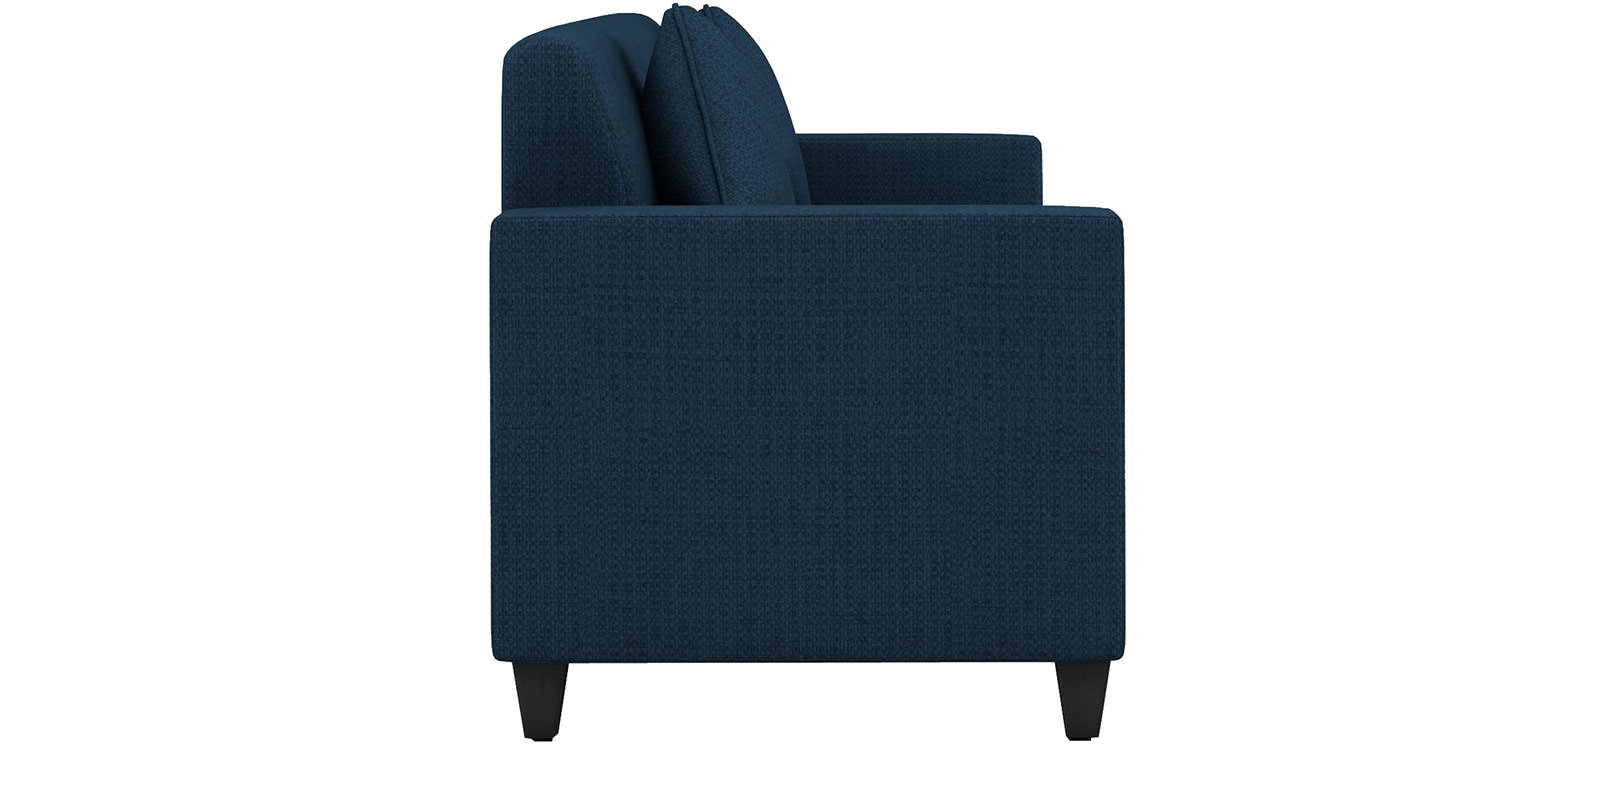Cooper Three Seater Sofa in Royal Blue Colour by ARRA: (446, 6, 1156, 731)
